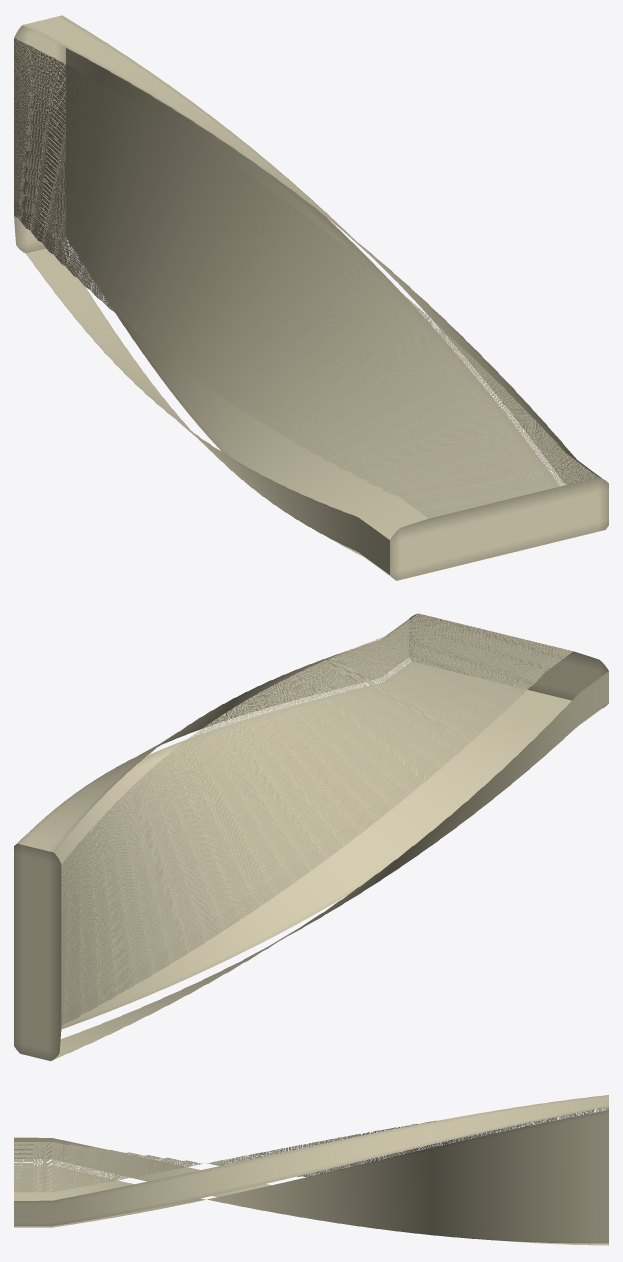
The model's file is TwistL.obj.
The picture shows the model from 3 angles, top to bottom: view 1: azimuth 30°, elevation 25°; view 2: azimuth 150°, elevation 25°; view 3: azimuth 270°, elevation 25°; orthographic projection. The views are drawn at different scales.
Visible parts, largest first — view 1: TwistL; view 2: TwistL; view 3: TwistL.
Part boxes in pixels (<box>): TwistL: <box>14,15,608,580</box>; TwistL: <box>14,613,608,1061</box>; TwistL: <box>14,1095,608,1245</box>.
Size of the model in its own units: 8.23 by 8.23 by 30.
